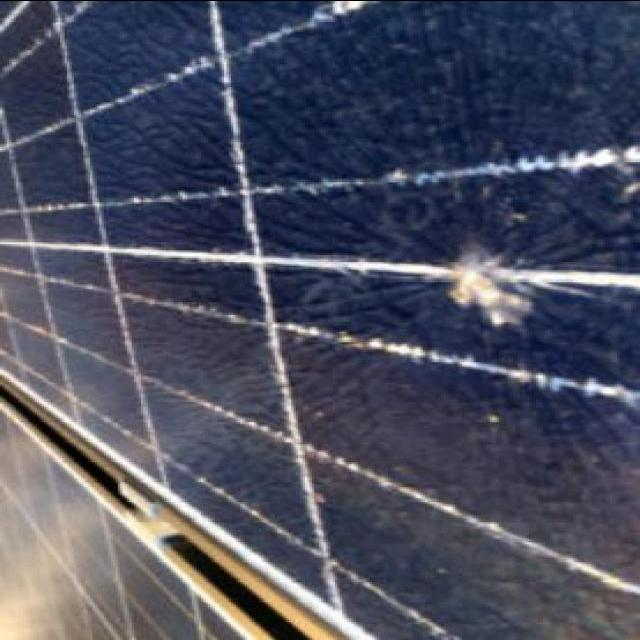cracked: (2, 4, 640, 634)
